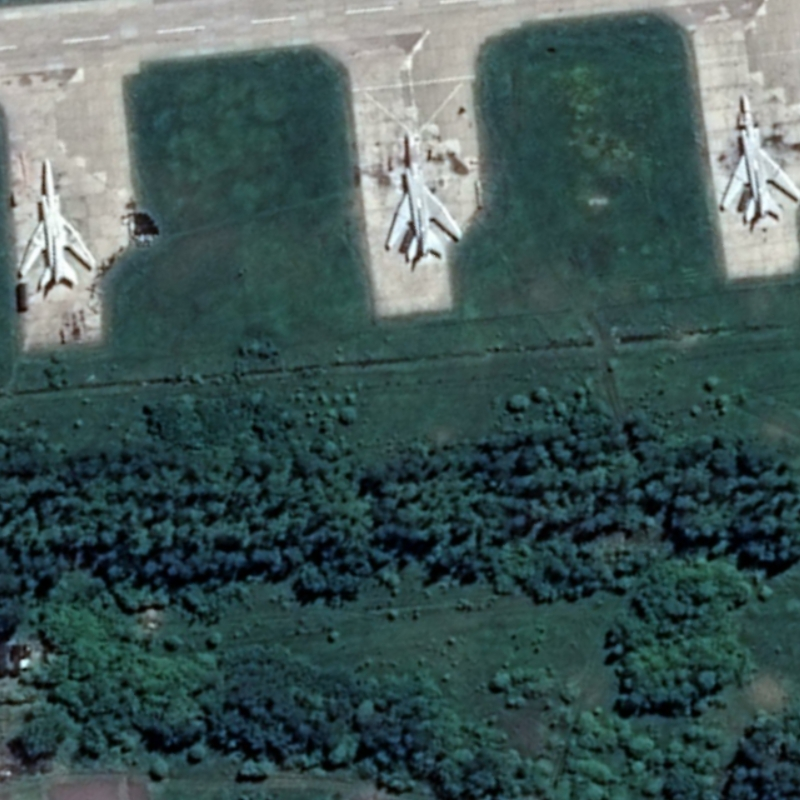A12: (718, 91, 800, 224), (17, 156, 98, 290), (383, 131, 464, 263)
